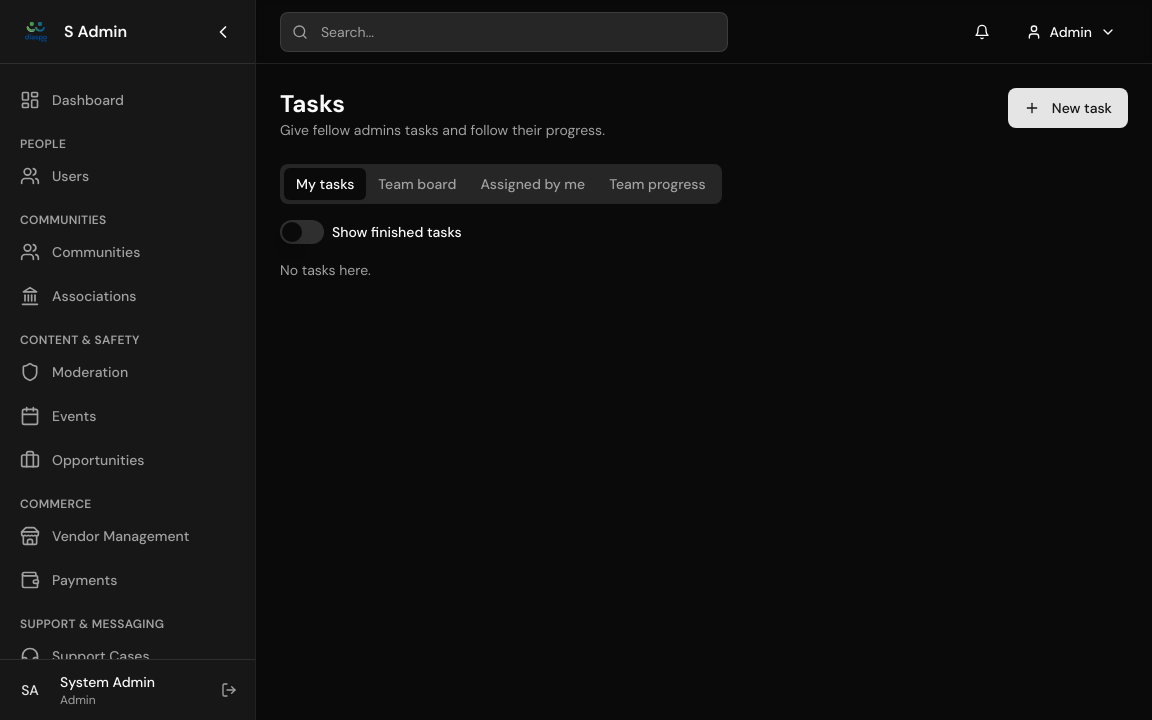
Tasks — new task dialog › assigns to yourself, with no picker, when you can't assign others
What coordinates should you click on to do the following:
click the button "New task"
I would click on:
 (1068, 108)
Its box is [1008,88,1128,128].
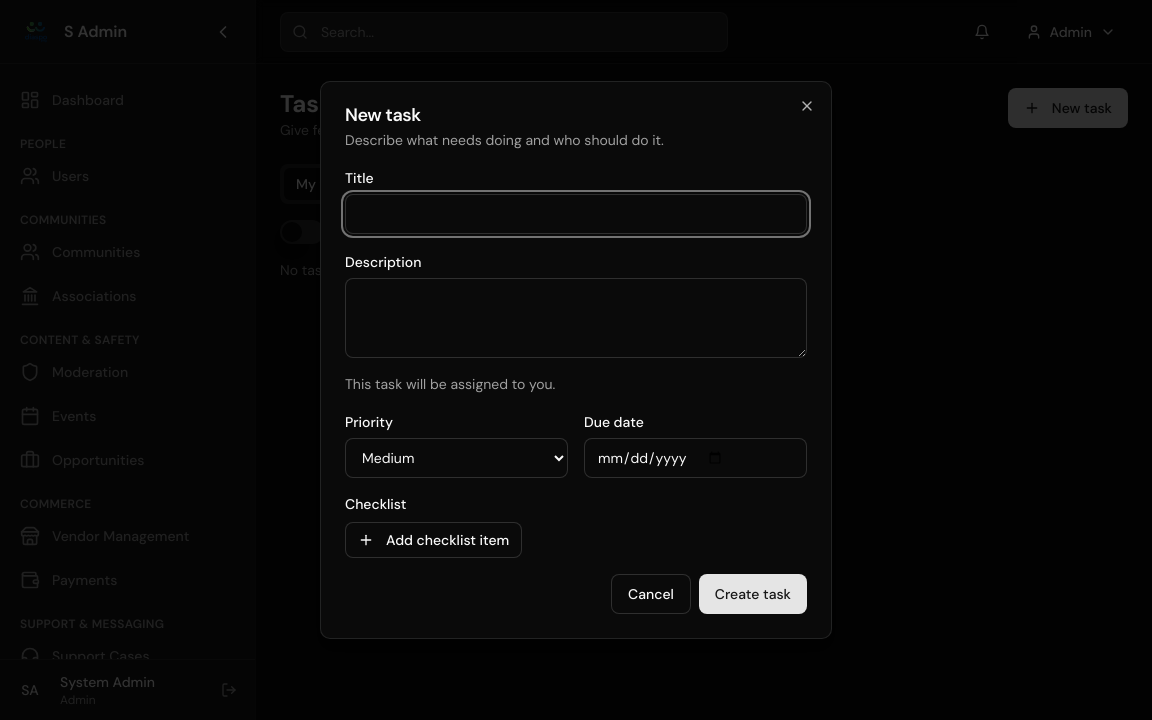
expect the text "This task will be assigned to you." is shown: met, box [345,375,555,393]
